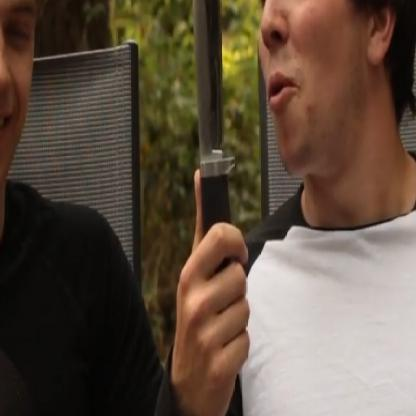knife: (177, 0, 253, 332)
